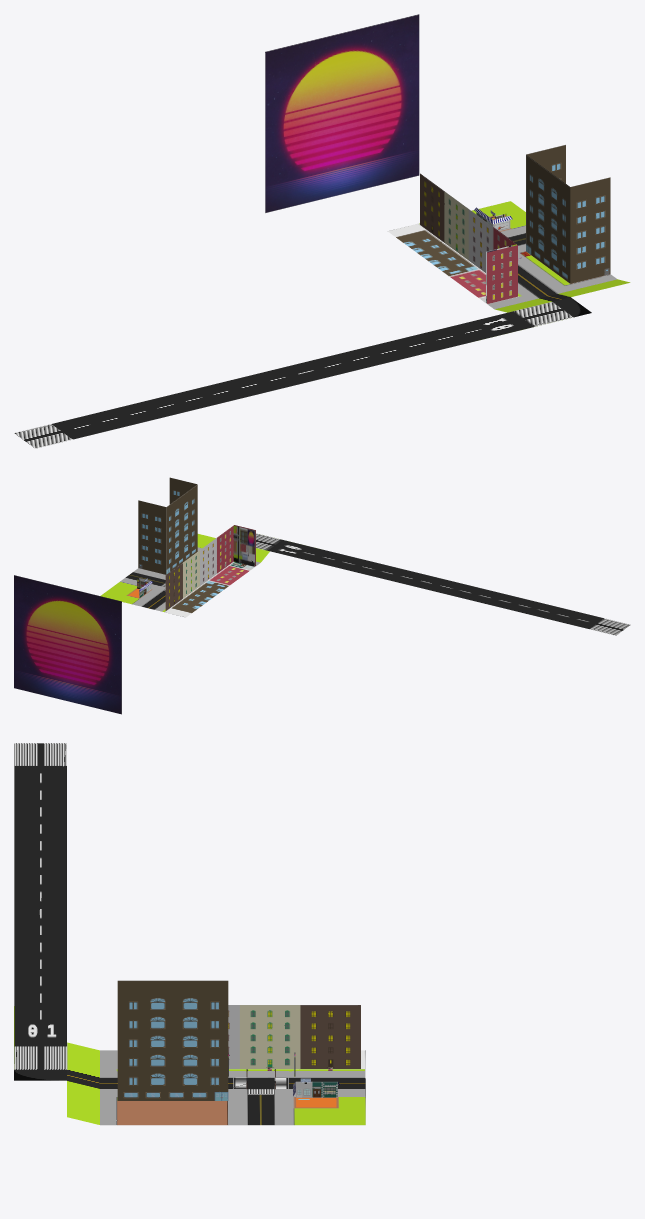
3 views of the same model, one above another, from view 1: azimuth 30°, elevation 25°; view 2: azimuth 150°, elevation 25°; view 3: azimuth 270°, elevation 25° (orthographic). The views are drawn at different scales.
Parts seen in each view (by area): view 1: Sun, Runway, Office, Ground, Appartment, Slope; view 2: Sun, Runway, Office, Ground, Appartment, Appartment_shadow_wall; view 3: Runway, Office, Ground, Appartment, Slope, Shop, Turning.
Boxes of the visible parts, x1,y1,x2,y2 form: Sun: (265,14,419,213); Runway: (14,302,573,448); Office: (526,144,610,283); Ground: (387,201,616,309); Appartment: (420,173,517,303); Slope: (495,279,630,312); Sun: (14,575,121,714); Runway: (256,533,630,635); Office: (138,477,197,574); Ground: (100,547,260,617); Appartment: (165,525,255,610); Appartment_shadow_wall: (233,525,254,566); Runway: (14,743,66,1069); Office: (117,980,228,1100); Ground: (100,1050,365,1125); Appartment: (228,1005,360,1068); Slope: (67,1042,99,1124); Shop: (296,1081,337,1097); Turning: (14,1069,66,1080).
Size of what is drawn, in the model's own units: 205 by 50 by 139.
Materials: 4 (4 with a texture image).
